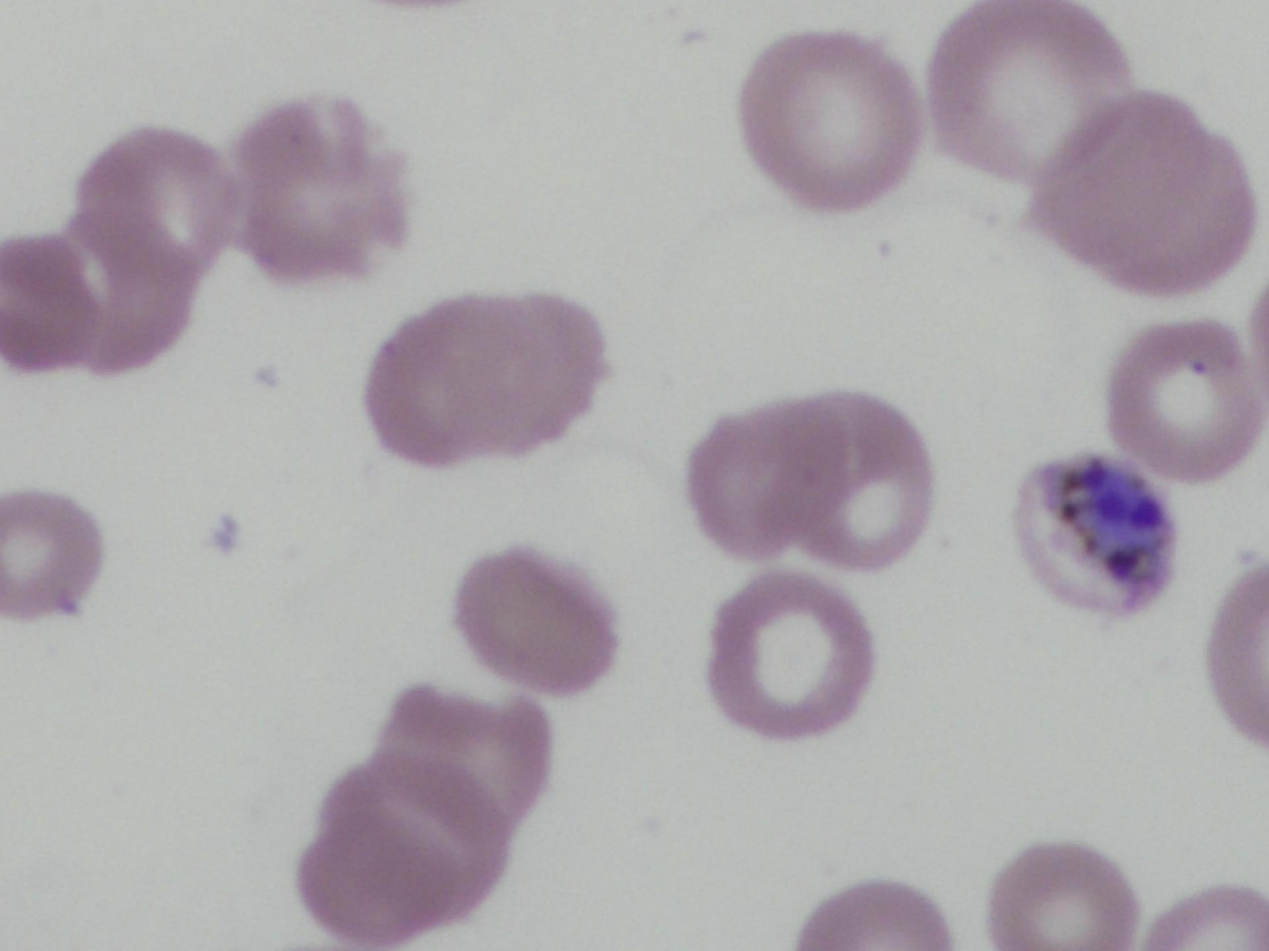Infected: (1009, 455, 1176, 617)
Uninfected: (930, 3, 1128, 177), (692, 397, 900, 562), (238, 91, 411, 286), (740, 27, 916, 214), (1018, 91, 1201, 261), (322, 754, 508, 918), (366, 294, 543, 459), (707, 565, 871, 743), (454, 292, 607, 467), (375, 684, 551, 836), (1090, 135, 1254, 289), (454, 543, 614, 697), (75, 124, 232, 280), (1102, 318, 1248, 480), (784, 397, 924, 565), (57, 210, 189, 371), (295, 820, 445, 947), (991, 840, 1143, 951), (0, 485, 106, 622), (0, 232, 103, 371)
